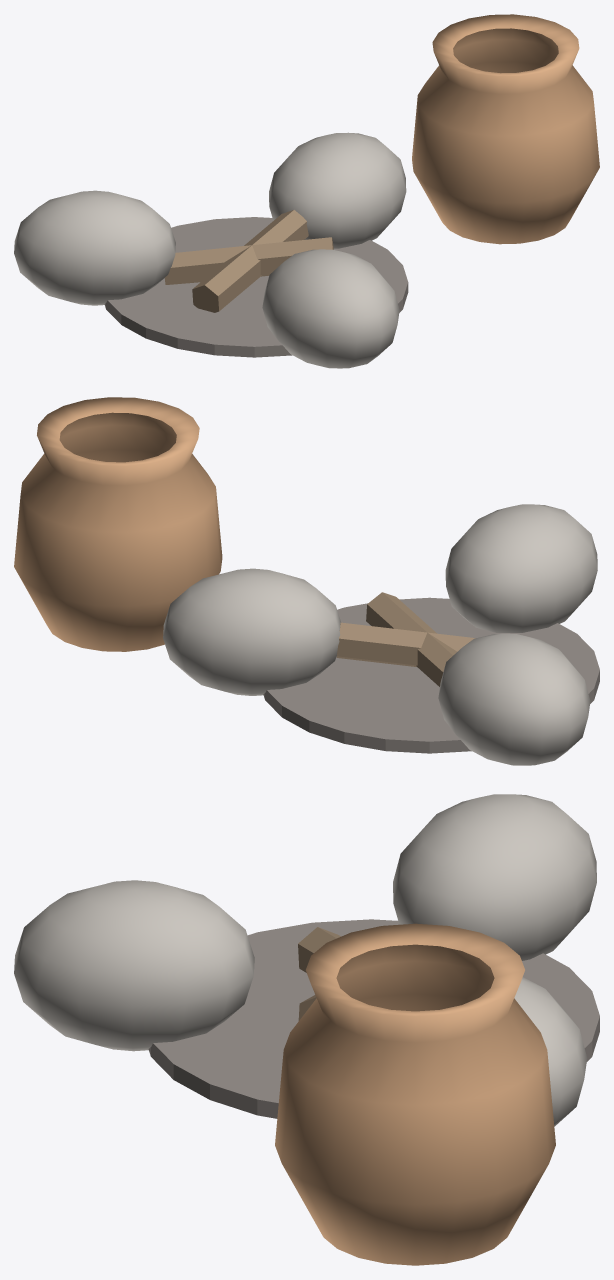
Rendered from gourd-prop-hearth.glb.
3 renders of one model, top to bottom at view 1: azimuth 30°, elevation 25°; view 2: azimuth 150°, elevation 25°; view 3: azimuth 270°, elevation 25°, orthographic. The views are drawn at different scales.
Visible parts, largest first — view 1: pot, stone1, ash, stone2, stone0, log0, log1; view 2: pot, stone0, ash, stone1, stone2, log0, log1; view 3: pot, stone2, stone1, ash, stone0, log0.
Part boxes in pixels (<box>): pot: <box>412,14,599,244</box>; stone1: <box>14,190,175,305</box>; ash: <box>104,217,408,357</box>; stone2: <box>262,249,399,368</box>; stone0: <box>269,132,406,248</box>; log0: <box>192,210,308,312</box>; log1: <box>164,237,333,284</box>; pot: <box>14,397,222,651</box>; stone0: <box>163,568,341,695</box>; ash: <box>263,597,599,753</box>; stone1: <box>438,633,590,765</box>; stone2: <box>445,504,597,632</box>; log0: <box>336,622,475,666</box>; log1: <box>366,592,456,686</box>; pot: <box>275,923,555,1265</box>; stone2: <box>14,880,254,1051</box>; stone1: <box>393,794,596,960</box>; ash: <box>148,919,599,1118</box>; stone0: <box>514,977,587,1126</box>; log0: <box>298,927,340,972</box>.
Size of the model in its own units: 0.104 by 0.0335 by 0.0667.
